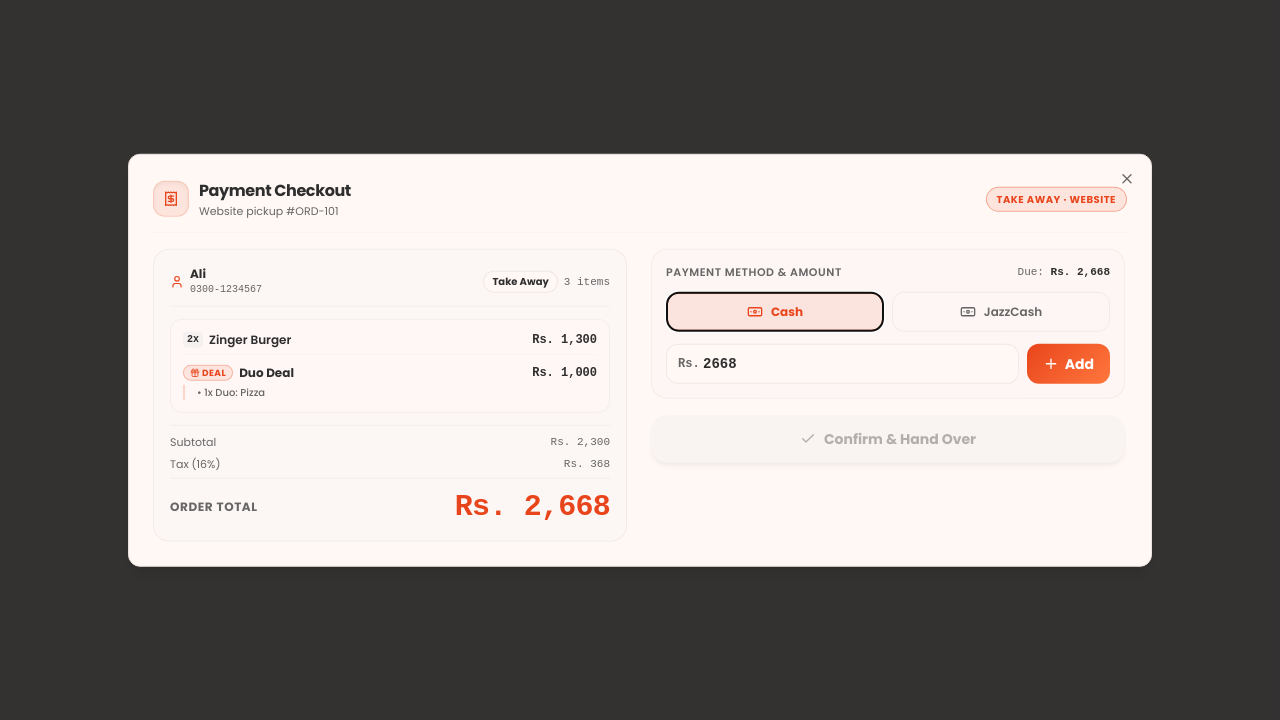
Test case: WebsitePickupPaymentDialog › removes an added payment
The width and height of the screenshot is (1280, 720).
Click the button "Add" at (1068, 363), box [1027,343,1110,383]
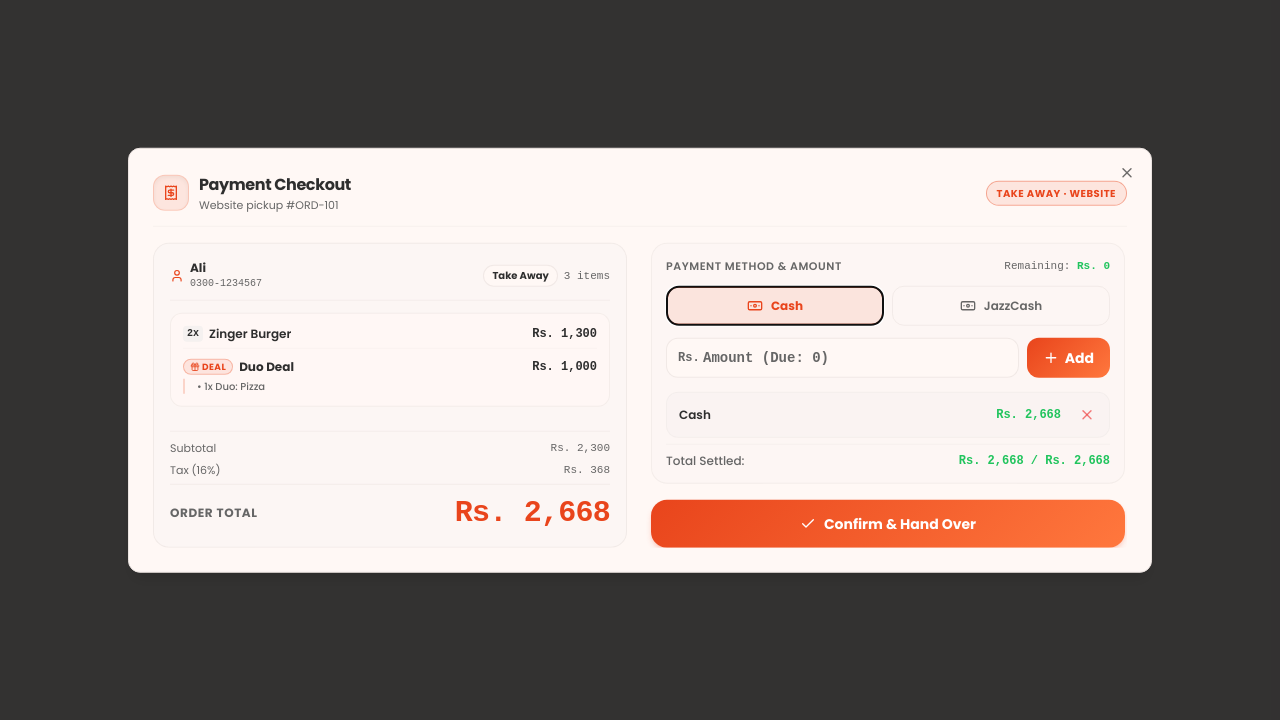
Click the button named "Remove payment entry" at (1087, 414), box [1069,396,1105,432]
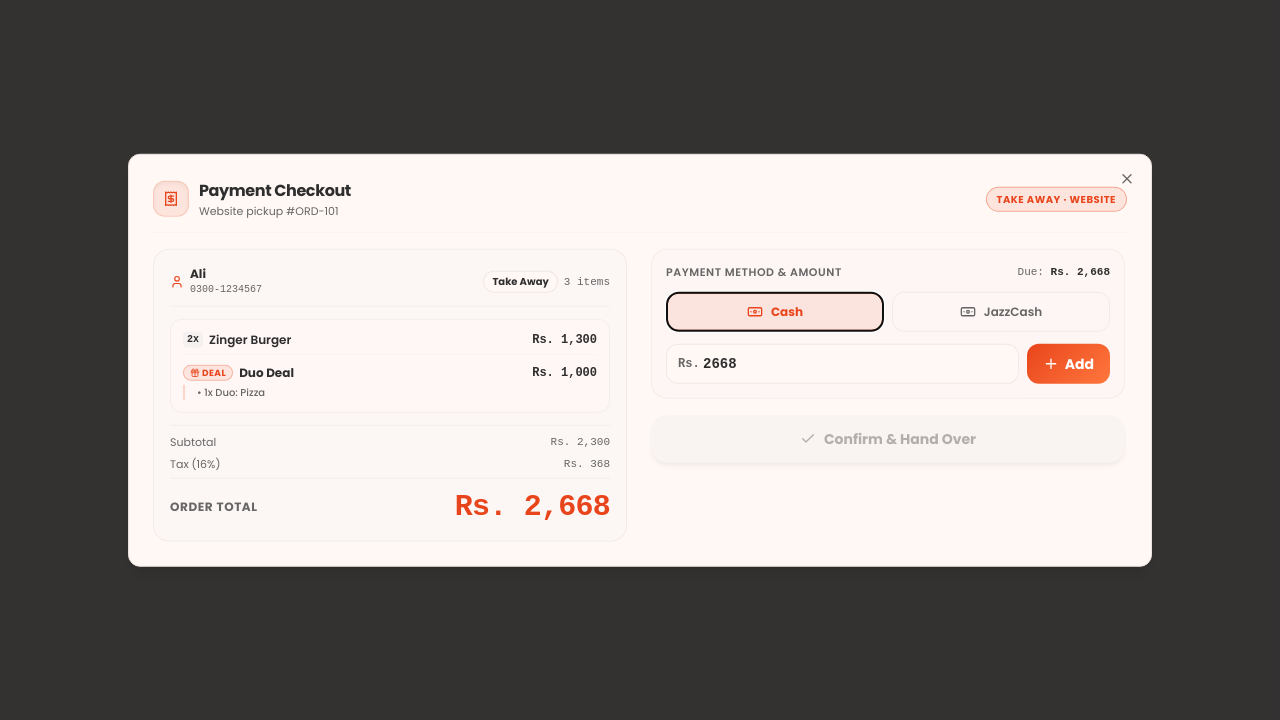
Now the button "Confirm & Hand Over" is disabled, box [651,414,1125,462]
